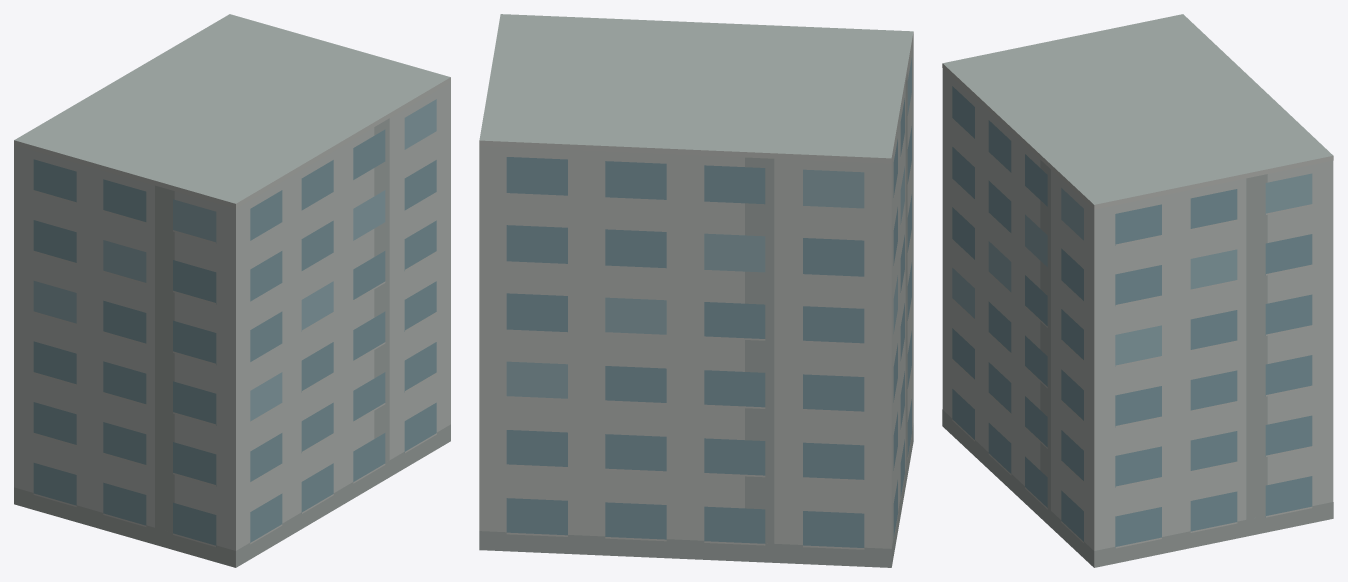
The model's file is survey-upis-32826152.glb.
The picture shows the model from 3 angles, left to right: view 1: azimuth 30°, elevation 25°; view 2: azimuth 150°, elevation 25°; view 3: azimuth 270°, elevation 25°; orthographic projection. The views are drawn at different scales.
Visible parts, largest first — view 1: survey-upis-32826152.tmp; view 2: survey-upis-32826152.tmp; view 3: survey-upis-32826152.tmp.
Part boxes in pixels (x1=…): survey-upis-32826152.tmp: x1=14, y1=14, x2=450, y2=567; survey-upis-32826152.tmp: x1=479, y1=14, x2=913, y2=567; survey-upis-32826152.tmp: x1=942, y1=14, x2=1333, y2=567.
Size of the model in its own units: 20.64 by 18.3 by 17.87.
